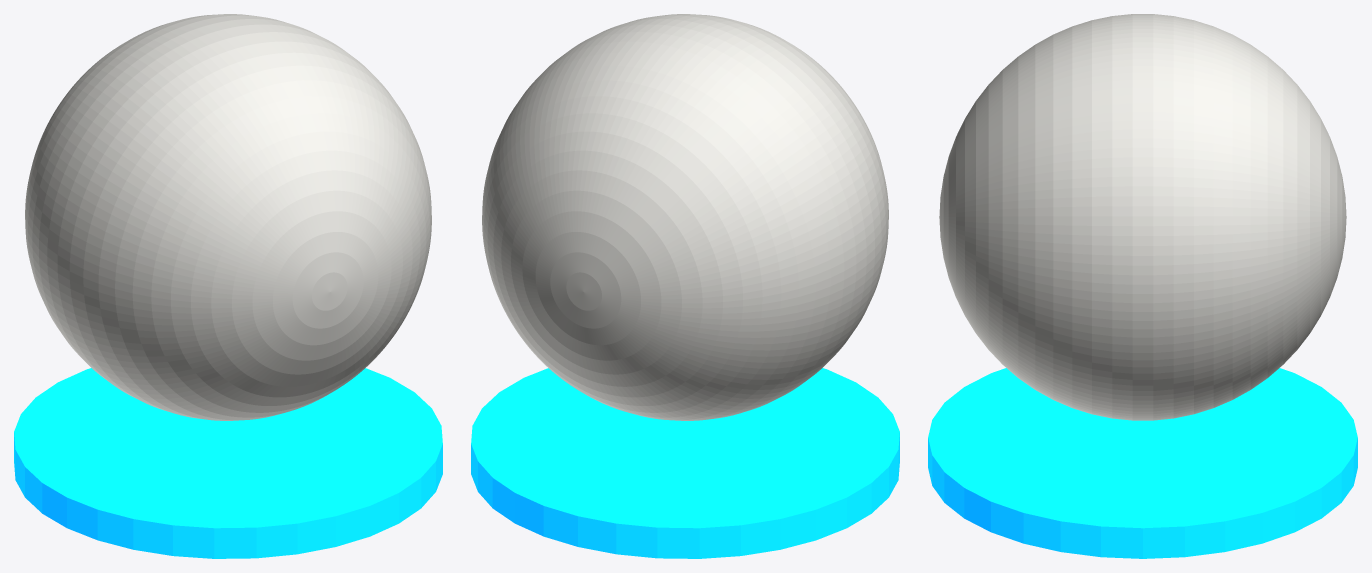
Rendered from sports_baseball.glb.
3 renders of one model, left to right at view 1: azimuth 30°, elevation 25°; view 2: azimuth 150°, elevation 25°; view 3: azimuth 270°, elevation 25°, orthographic.
Visible parts, largest first — view 1: 04_05_Popular_Sports_Baseball_part_01, 04_05_Popular_Sports_Baseball_ROOT_base; view 2: 04_05_Popular_Sports_Baseball_part_01, 04_05_Popular_Sports_Baseball_ROOT_base; view 3: 04_05_Popular_Sports_Baseball_part_01, 04_05_Popular_Sports_Baseball_ROOT_base.
Part boxes in pixels (x1,y1,x2,y2): 04_05_Popular_Sports_Baseball_part_01: (25, 14, 431, 420); 04_05_Popular_Sports_Baseball_ROOT_base: (14, 368, 442, 558); 04_05_Popular_Sports_Baseball_part_01: (482, 14, 888, 420); 04_05_Popular_Sports_Baseball_ROOT_base: (471, 368, 899, 558); 04_05_Popular_Sports_Baseball_part_01: (939, 14, 1346, 420); 04_05_Popular_Sports_Baseball_ROOT_base: (928, 368, 1357, 558).
Bounding box in the file's own units: 0.76 × 0.8491 × 0.76.
